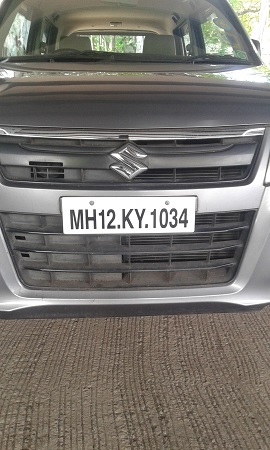licenseplate: (57, 193, 201, 234)
